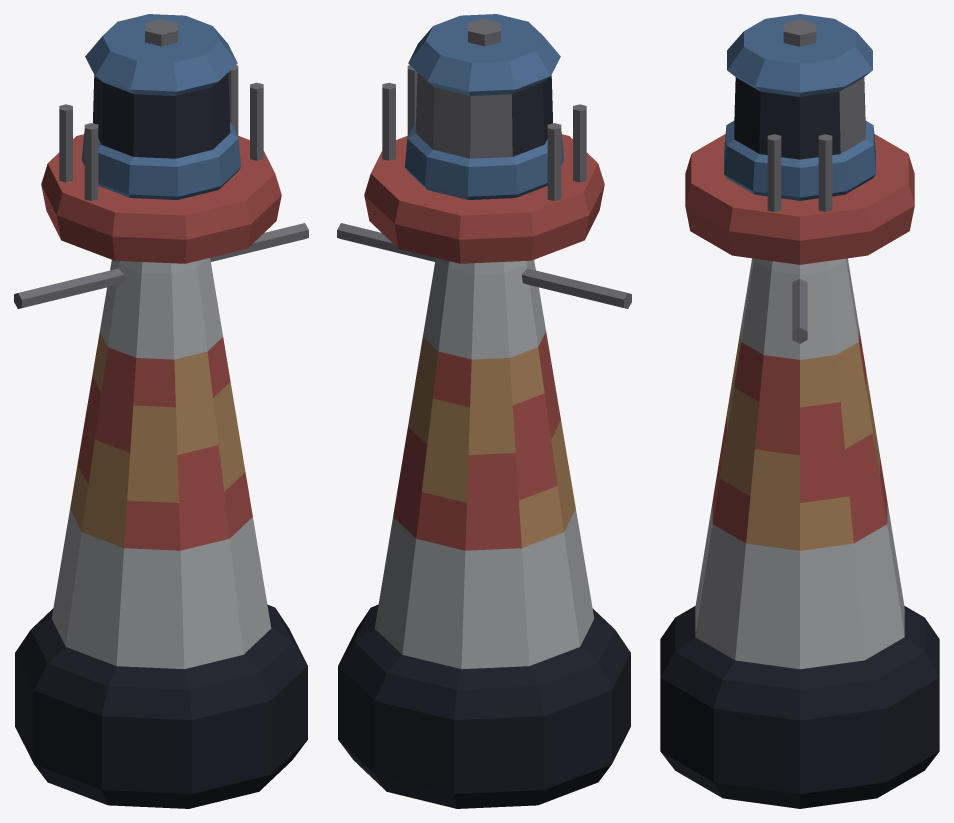
The model's file is nav-beacon-1211c9.glb.
3 views of the same model, side by side, from view 1: azimuth 30°, elevation 25°; view 2: azimuth 150°, elevation 25°; view 3: azimuth 270°, elevation 25° (orthographic).
Visible parts, largest first — view 1: beacon-body, lantern; view 2: beacon-body, lantern; view 3: beacon-body, lantern.
Boxes of the visible parts, x1,y1,x2,y2 form: beacon-body: [14, 65, 308, 808]; lantern: [81, 14, 241, 199]; beacon-body: [337, 65, 631, 808]; lantern: [404, 14, 564, 199]; beacon-body: [660, 134, 939, 808]; lantern: [724, 14, 875, 200].
Bounding box in the file's own units: 1.26 × 3.05 × 1.07.
